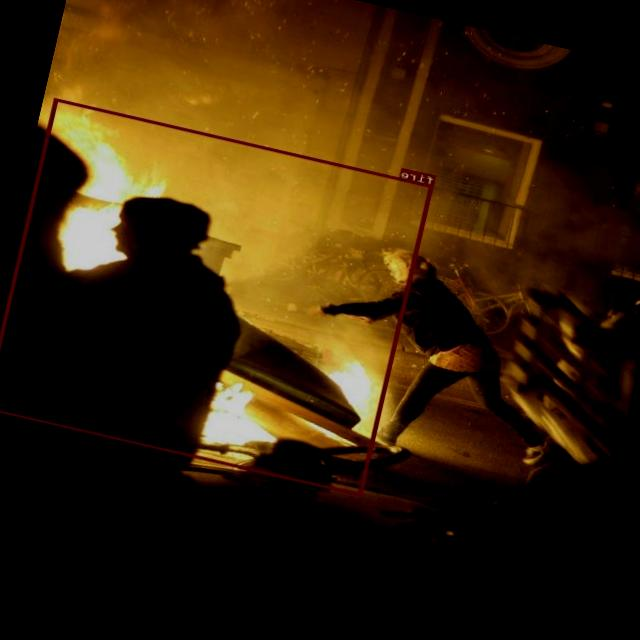fire: (0, 98, 434, 496)
